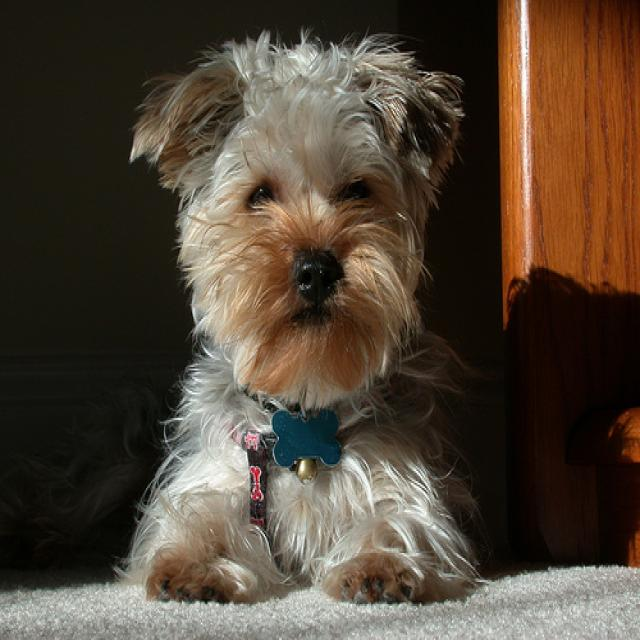dog-yorkshire_terrier: (124, 32, 474, 623)
